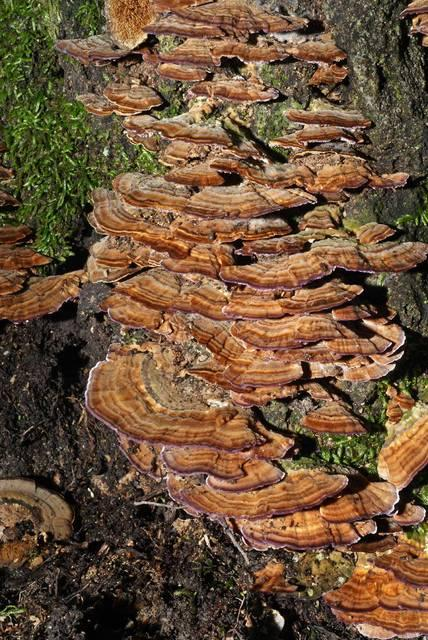Non-edible Mushroom: (43, 0, 428, 640)
